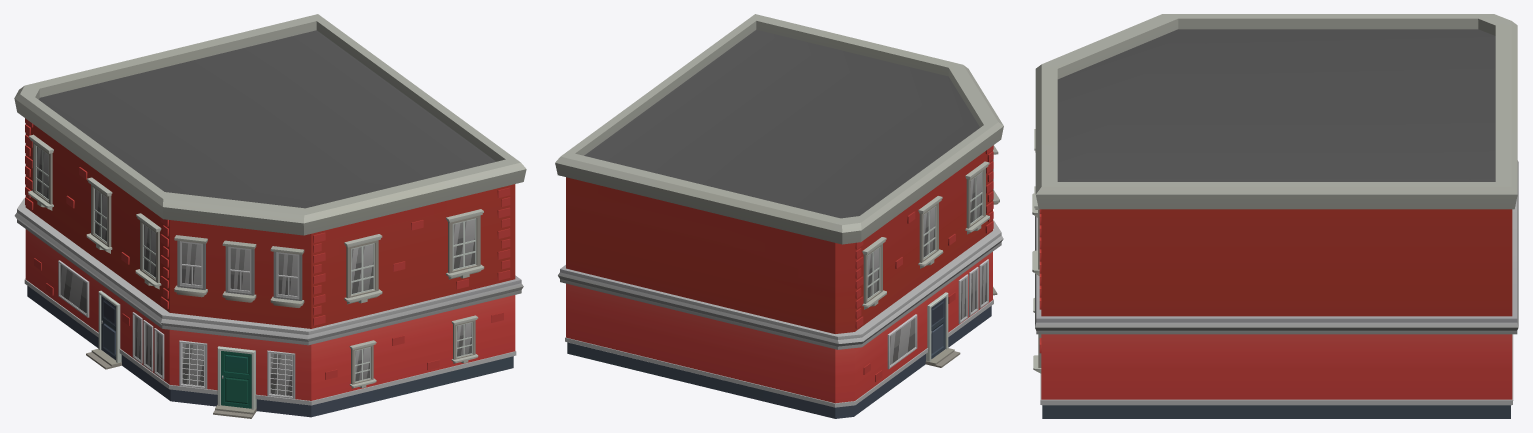
Rendered from Building_25_4_A.fbx.
3 views of the same model, side by side, from view 1: azimuth 30°, elevation 25°; view 2: azimuth 150°, elevation 25°; view 3: azimuth 270°, elevation 25° (orthographic). The views are drawn at different scales.
Visible parts, largest first — view 1: Building_25_4_A; view 2: Building_25_4_A; view 3: Building_25_4_A.
Boxes of the visible parts, x1,y1,x2,y2 form: Building_25_4_A: (14, 14, 526, 418); Building_25_4_A: (555, 14, 1003, 418); Building_25_4_A: (1032, 14, 1518, 418).
Size of the model in its own units: 1291 by 793 by 1479.
